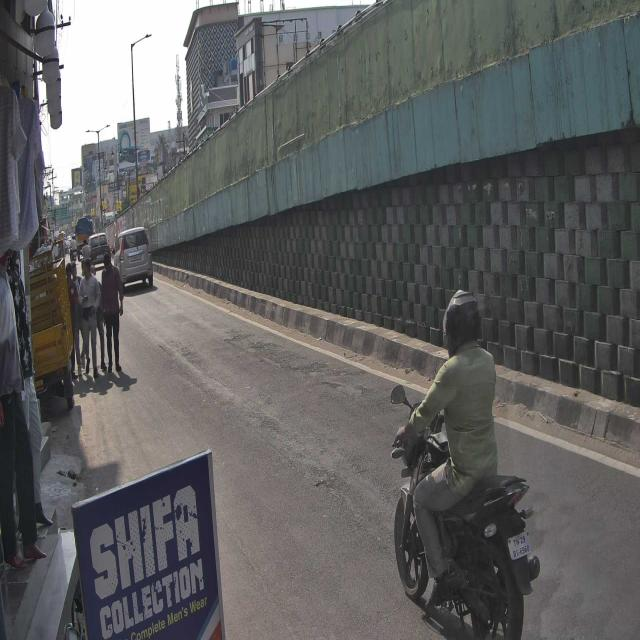single_rider: (390, 287, 542, 640)
